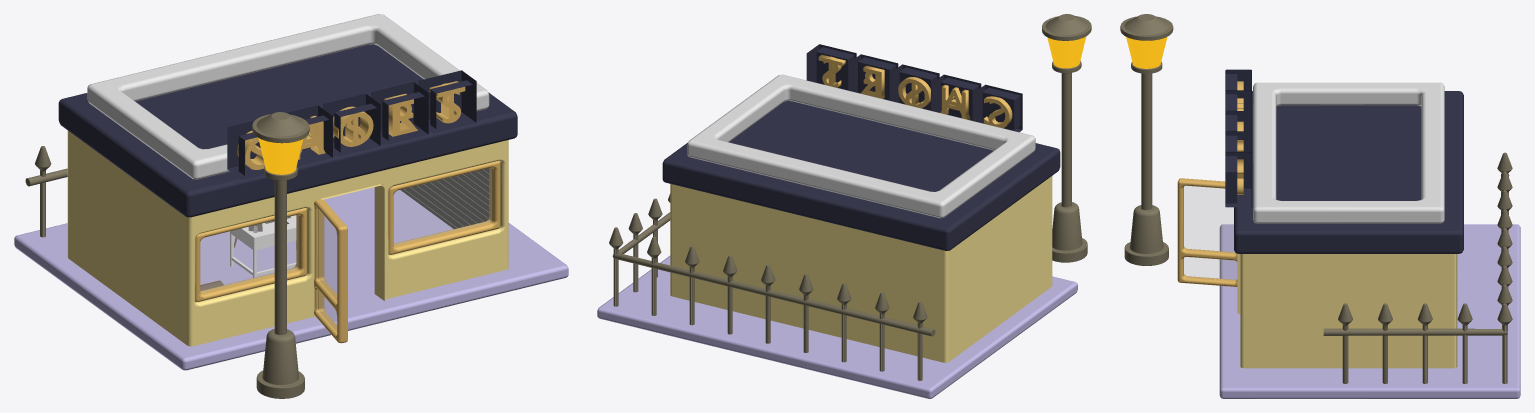
Rendered from office.glb.
3 views of the same model, side by side, from view 1: azimuth 30°, elevation 25°; view 2: azimuth 150°, elevation 25°; view 3: azimuth 270°, elevation 25° (orthographic). The views are drawn at different scales.
Visible parts, largest first — view 1: Plane.002, Plane.004, Plane.006, Circle.002, Plane.007, Right Window, Left Window, Office2_parquet2.001, Plane.008, Plane.014, Plane.013, Plane.012 (+6 smaller); view 2: Plane.002, Plane.004, Plane.006, Plane.010, Circle.002, Plane.009, Plane.003, Plane.014, Plane.013, Plane.011, Plane.012, Text.008 (+1 smaller); view 3: Plane.002, Plane.004, Plane.006, Circle.002, Plane.010, Plane, Plane.008, Plane.009, Plane.014, Plane.003, Plane.012, Plane.013 (+1 smaller).
Part boxes in pixels (x1,y1,x2,y2): Plane.002: (14,130,568,370); Plane.004: (58,44,517,217); Plane.006: (87,14,489,179); Circle.002: (252,112,309,398); Plane.007: (195,161,500,301); Right Window: (394,168,491,245); Left Window: (200,215,298,292); Office2_parquet2.001: (400,168,489,228); Plane.008: (314,199,347,343); Plane.014: (418,70,476,133); Plane.013: (371,82,428,144); Plane.012: (323,94,380,156); Plane.002: (597,176,1077,398); Plane.004: (662,101,1060,250); Plane.006: (687,74,1035,218); Plane.010: (609,193,927,380); Circle.002: (1042,14,1091,262); Plane.009: (612,212,935,336); Plane.003: (972,84,1022,132); Plane.014: (806,44,856,90); Plane.013: (848,54,898,100); Plane.011: (931,74,981,120); Plane.012: (889,64,939,110); Text.008: (898,77,930,108); Plane.002: (1219,224,1520,398); Plane.004: (1234,91,1463,253); Plane.006: (1253,82,1444,223); Circle.002: (1120,14,1173,265); Plane.010: (1338,152,1512,383); Plane: (1184,186,1236,279); Plane.008: (1177,178,1237,286); Plane.009: (1323,173,1509,335); Plane.014: (1225,152,1251,207); Plane.003: (1225,69,1251,90); Plane.012: (1225,111,1251,131); Plane.013: (1225,131,1251,152).
Bounding box in the file's own units: 10.97 × 7.41 × 11.17.
Materials: 12 (1 with a texture image).
